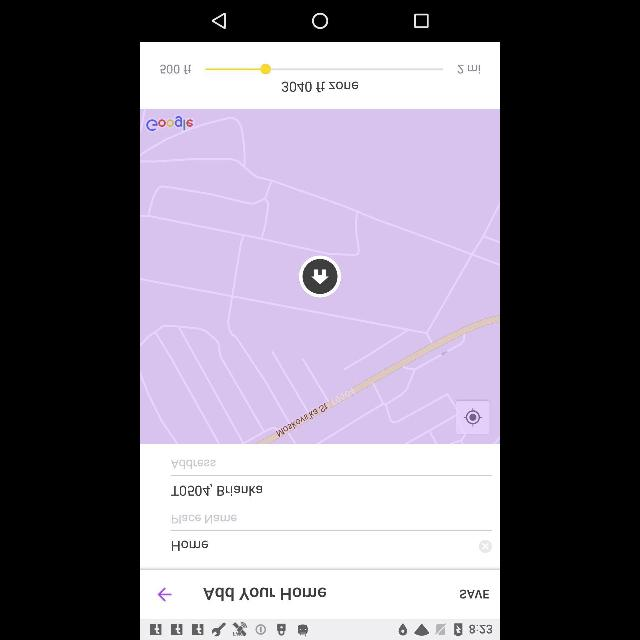icon: (463, 408, 482, 426), (156, 586, 172, 604), (312, 13, 328, 29), (212, 13, 226, 29), (414, 14, 428, 28)
input: (170, 513, 492, 553), (170, 459, 492, 497)
map: (140, 110, 500, 444)
panel: (140, 42, 500, 108), (140, 1, 500, 42)
text: (204, 588, 326, 600), (172, 484, 266, 498), (281, 80, 359, 94), (170, 514, 238, 526), (172, 538, 210, 552), (169, 458, 217, 469), (160, 63, 192, 77), (456, 62, 482, 76)
textbutton: (453, 570, 499, 618)
toolbar: (140, 570, 500, 618)
uppertaskbar: (140, 620, 500, 638)
